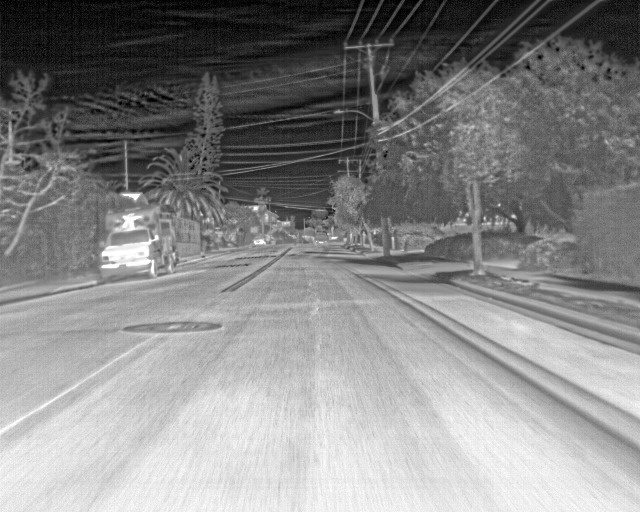vehicle: (101, 206, 177, 283)
